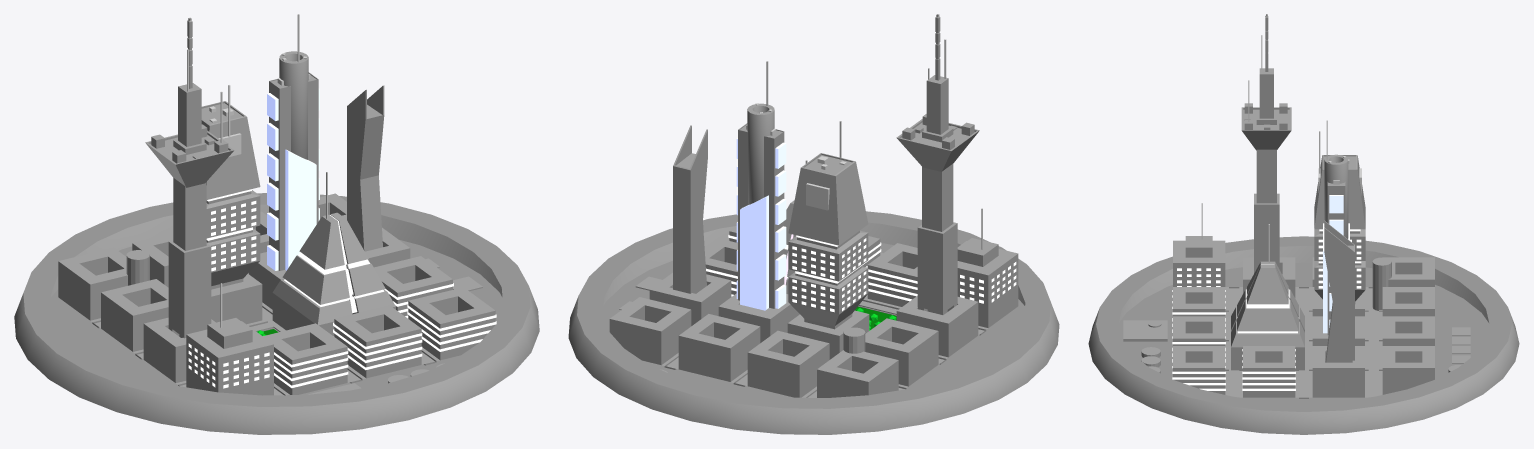
File: City.glb
3 renders of one model, left to right at view 1: azimuth 30°, elevation 25°; view 2: azimuth 150°, elevation 25°; view 3: azimuth 270°, elevation 25°, orthographic. The views are drawn at different scales.
Parts seen in each view (by area): view 1: Circle, Plane, Cube, Cube.017, Building1, Cube.016, Cube.026, Cube.025, Cylinder, Cube.018, Cube.043, Cube.041 (+3 smaller); view 2: Plane, Circle, Building1, Cube.017, Cube.016, Cube.025, Cube.026, Cylinder, Cube.018, Building1.001, Building1.002, Cube.045 (+3 smaller); view 3: Circle, Plane, Cube, Cube.017, Cube.016, Building1, Cube.018, Cylinder, Cube.006, Cylinder.006, Cube.026, Cube.044 (+2 smaller).
Part boxes in pixels (x1,y1,x2,y2): Circle: (14, 193, 539, 434); Plane: (58, 193, 495, 395); Cube: (272, 212, 395, 336); Cube.017: (168, 17, 211, 338); Building1: (201, 101, 260, 289); Cube.016: (347, 85, 384, 251); Cube.026: (269, 72, 318, 270); Cube.025: (285, 149, 316, 270); Cylinder: (279, 51, 308, 159); Cube.018: (145, 130, 234, 187); Cube.043: (333, 322, 422, 370); Cube.041: (407, 304, 496, 351); Plane: (609, 226, 1018, 397); Circle: (568, 209, 1059, 434); Building1: (788, 153, 868, 329); Cube.017: (917, 14, 957, 314); Cube.016: (673, 125, 707, 293); Cube.025: (740, 195, 768, 310); Cube.026: (738, 123, 784, 308); Cylinder: (747, 103, 774, 204); Cube.018: (896, 119, 979, 171); Building1.001: (792, 238, 866, 279); Building1.002: (792, 271, 866, 312); Cube.045: (868, 269, 917, 301); Circle: (1088, 236, 1519, 434); Plane: (1173, 236, 1434, 398); Cube: (1231, 261, 1304, 370); Cube.017: (1254, 14, 1279, 273); Cube.016: (1324, 220, 1354, 362); Building1: (1314, 155, 1365, 303); Cube.018: (1241, 107, 1291, 150); Cylinder: (1324, 154, 1348, 238); Cube.006: (1123, 320, 1167, 341); Cylinder.006: (1372, 257, 1391, 310); Cube.026: (1327, 182, 1345, 335); Cube.044: (1242, 349, 1295, 390).
Size of the model in its own units: 1.44 by 1.07 by 1.44.
